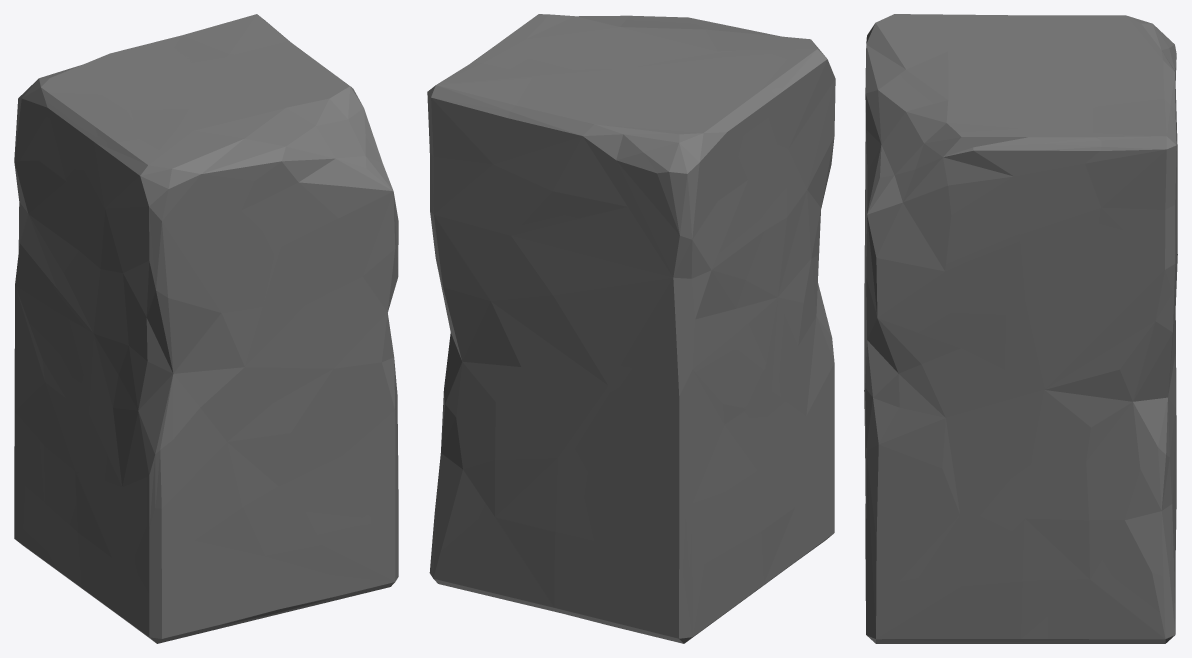
The model's file is Ruins_02.fbx.
3 renders of one model, left to right at view 1: azimuth 30°, elevation 25°; view 2: azimuth 150°, elevation 25°; view 3: azimuth 270°, elevation 25°, orthographic. The views are drawn at different scales.
Visible parts, largest first — view 1: Ruins_02; view 2: Ruins_02; view 3: Ruins_02.
Part boxes in pixels (x1,y1,x2,y2): Ruins_02: (14, 14, 398, 643); Ruins_02: (427, 14, 835, 643); Ruins_02: (864, 14, 1177, 643).
Size of the model in its own units: 0.7695 by 1.38 by 0.7685.
